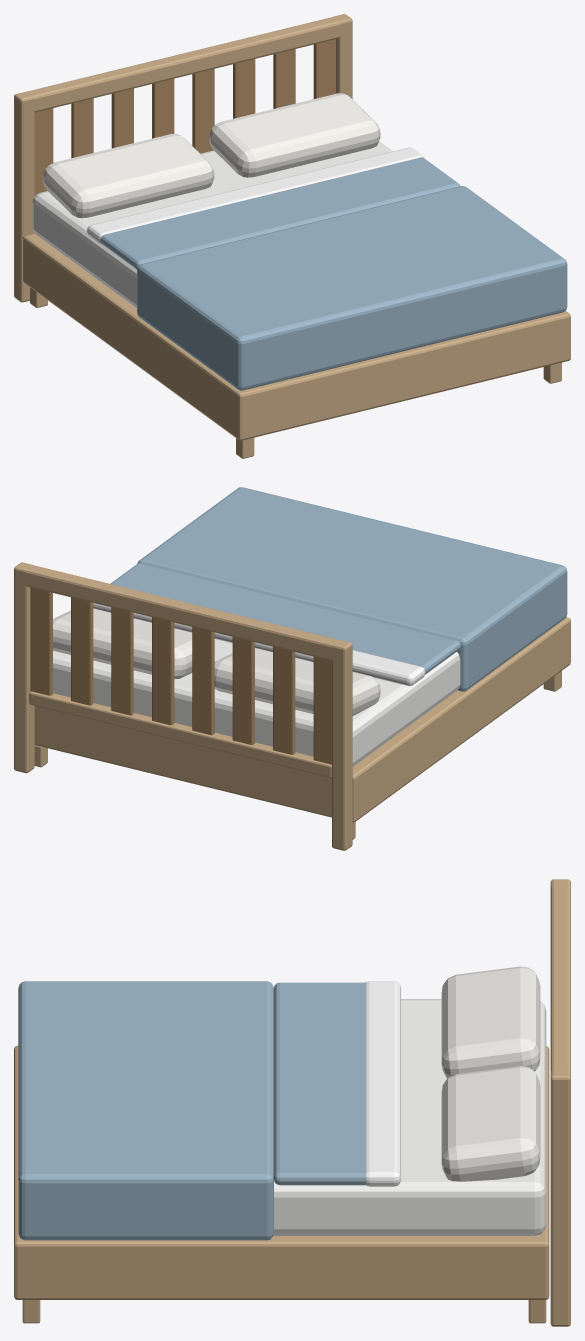
The model's file is bedDouble.glb.
3 views of the same model, one above another, from view 1: azimuth 30°, elevation 25°; view 2: azimuth 150°, elevation 25°; view 3: azimuth 270°, elevation 25° (orthographic). The views are drawn at different scales.
Visible parts, largest first — view 1: bedDouble, duvet_flap; view 2: bedDouble, duvet_flap; view 3: bedDouble, duvet_flap.
Part boxes in pixels (x1,y1,x2,y2): bedDouble: (14,14,570,458); duvet_flap: (87,147,460,269); bedDouble: (14,487,570,850); duvet_flap: (93,563,460,686); bedDouble: (14,879,570,1326); duvet_flap: (274,981,400,1186).
Bounding box in the file's own units: 1.62 × 0.95 × 1.92.
